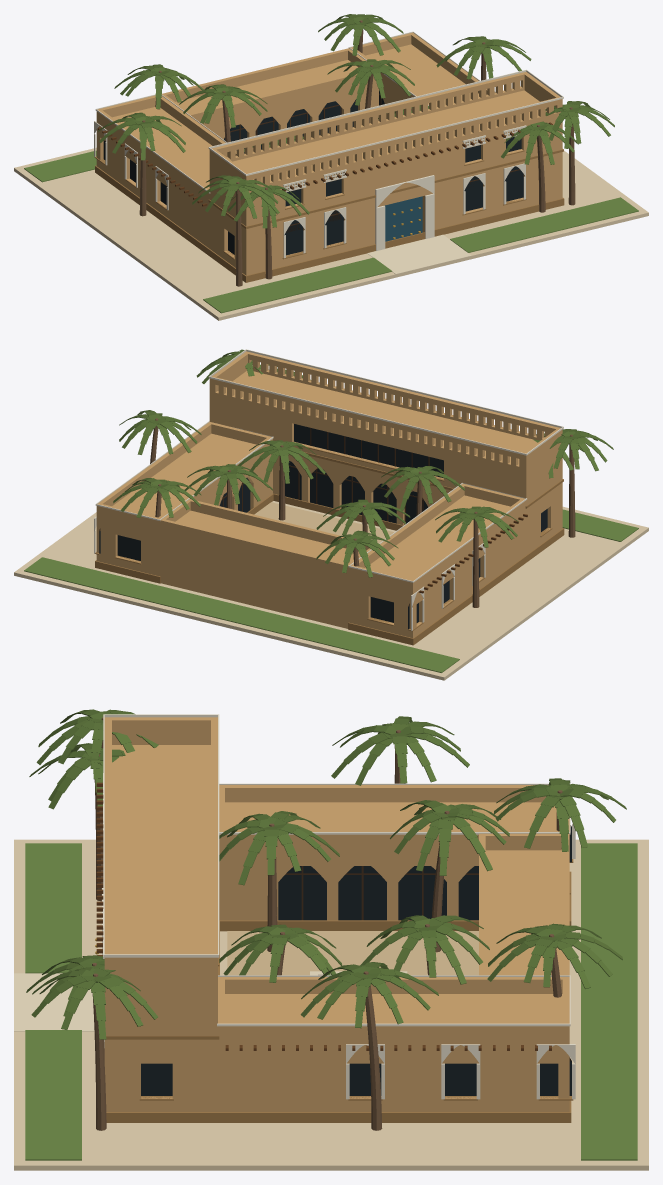
The model's file is ahsai.glb.
3 renders of one model, top to bottom at view 1: azimuth 30°, elevation 25°; view 2: azimuth 150°, elevation 25°; view 3: azimuth 270°, elevation 25°, orthographic. The views are drawn at different scales.
Parts seen in each view (by area): view 1: Ahsai_adobe, Ahsai_pave, Ahsai_leaf, Ahsai_lawn, Ahsai_gypsum, Ahsai_adobe_d, Ahsai_glass, Ahsai_trunk, Ahsai_coping, Ahsai_door, Ahsai_wood; view 2: Ahsai_adobe, Ahsai_pave, Ahsai_leaf, Ahsai_lawn, Ahsai_glass, Ahsai_adobe_d, Ahsai_gypsum, Ahsai_trunk, Ahsai_court, Ahsai_frame; view 3: Ahsai_adobe, Ahsai_pave, Ahsai_leaf, Ahsai_lawn, Ahsai_glass, Ahsai_adobe_d, Ahsai_gypsum, Ahsai_court, Ahsai_trunk, Ahsai_coping, Ahsai_wood.
Boxes of the visible parts, x1,y1,x2,y2 form: Ahsai_adobe: [96, 32, 562, 275]; Ahsai_pave: [14, 147, 648, 320]; Ahsai_leaf: [98, 14, 614, 228]; Ahsai_lawn: [24, 150, 638, 313]; Ahsai_gypsum: [94, 31, 563, 258]; Ahsai_adobe_d: [94, 149, 564, 282]; Ahsai_glass: [103, 91, 523, 255]; Ahsai_trunk: [139, 20, 575, 286]; Ahsai_coping: [367, 234, 471, 274]; Ahsai_door: [385, 196, 422, 241]; Ahsai_wood: [98, 122, 552, 206]; Ahsai_adobe: [96, 351, 562, 637]; Ahsai_pave: [14, 501, 648, 680]; Ahsai_leaf: [113, 349, 613, 577]; Ahsai_lawn: [24, 509, 638, 672]; Ahsai_glass: [99, 424, 547, 629]; Ahsai_adobe_d: [95, 445, 564, 645]; Ahsai_gypsum: [94, 349, 563, 630]; Ahsai_trunk: [150, 418, 575, 607]; Ahsai_court: [254, 502, 394, 543]; Ahsai_frame: [222, 428, 429, 524]; Ahsai_adobe: [104, 717, 569, 1111]; Ahsai_pave: [14, 839, 648, 1170]; Ahsai_leaf: [26, 709, 626, 1039]; Ahsai_lawn: [25, 843, 637, 1160]; Ahsai_glass: [141, 827, 571, 1095]; Ahsai_adobe_d: [106, 859, 573, 1122]; Ahsai_gypsum: [102, 714, 575, 1099]; Ahsai_court: [227, 931, 478, 975]; Ahsai_trunk: [92, 717, 562, 1130]; Ahsai_coping: [14, 971, 407, 1031]; Ahsai_wood: [96, 782, 551, 1050].
Size of the model in its own units: 34 by 8.42 by 28.
